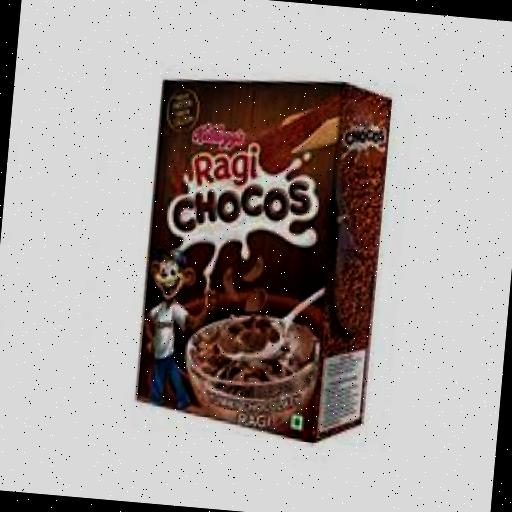cardboard: (126, 63, 391, 444)
